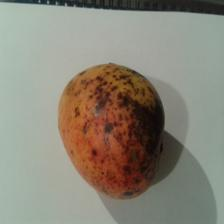Mango Semirotten: (56, 58, 168, 197)
